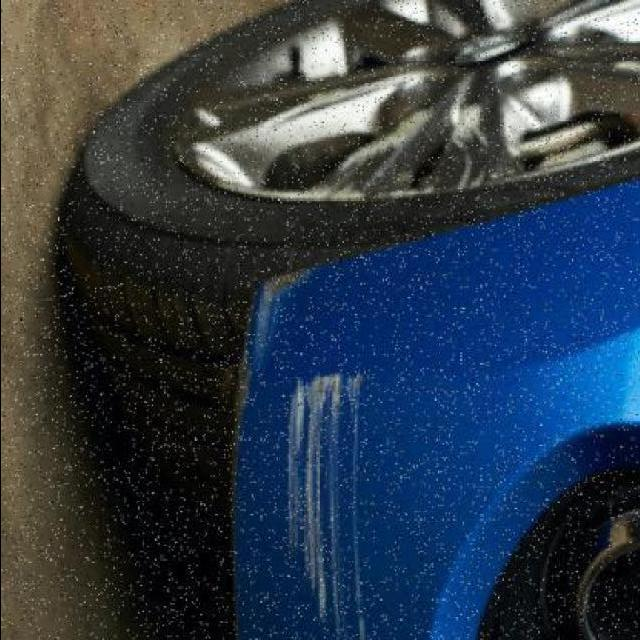front-bumper-dent: (222, 211, 638, 638)
